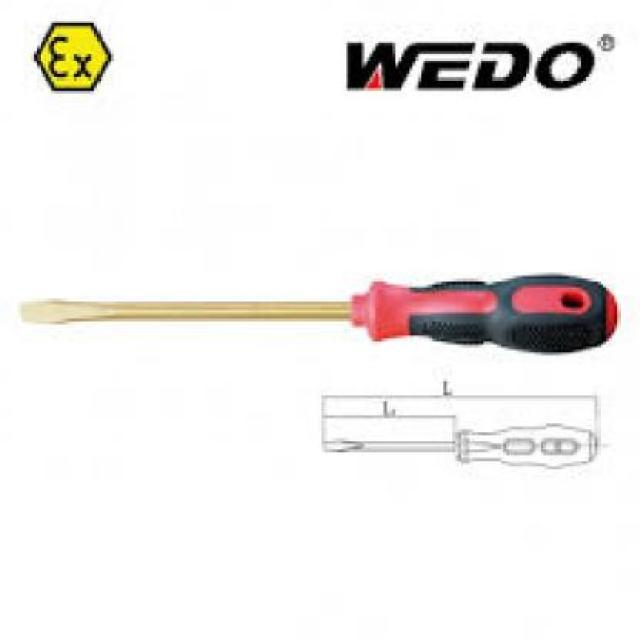screwdriver: (23, 270, 623, 361)
